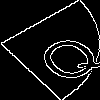Q: (25, 25, 100, 88)
